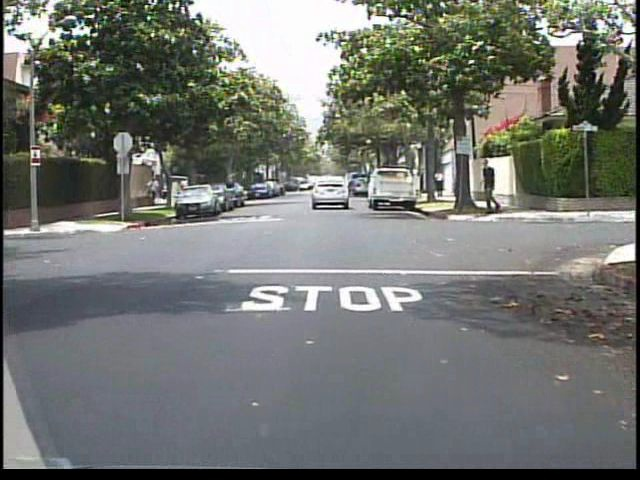person: (477, 157, 505, 217), (146, 176, 165, 208), (431, 165, 447, 201), (177, 174, 193, 205)
